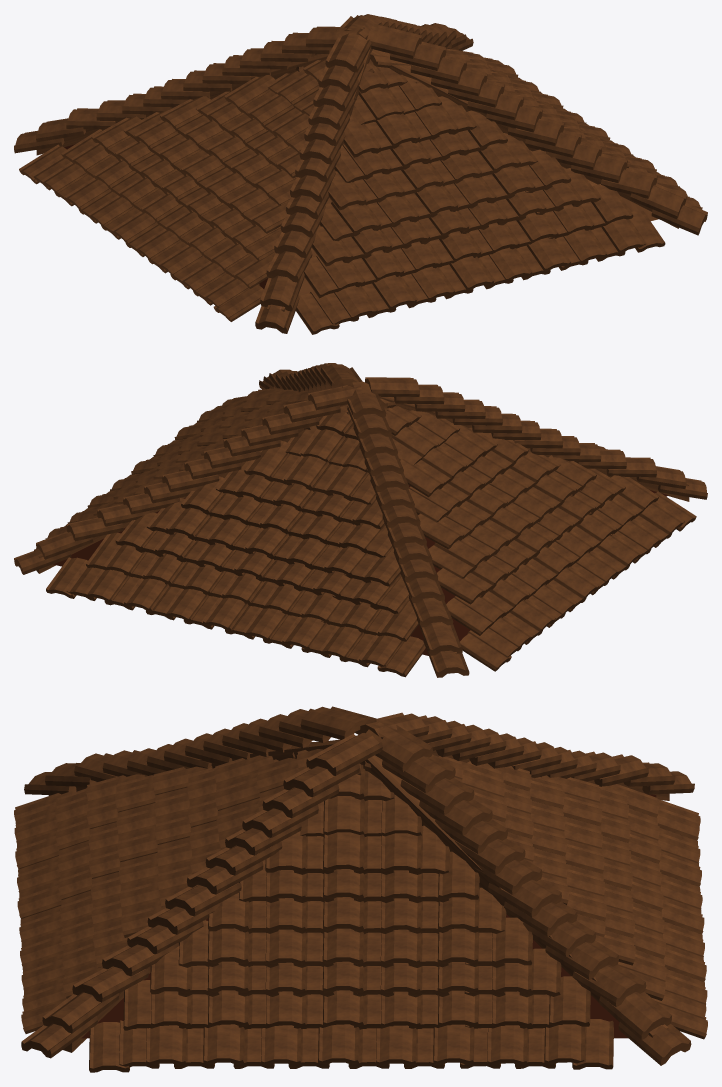
Rendered from Roof Square Short.fbx.
3 views of the same model, one above another, from view 1: azimuth 30°, elevation 25°; view 2: azimuth 150°, elevation 25°; view 3: azimuth 270°, elevation 25° (orthographic). The views are drawn at different scales.
Visible parts, largest first — view 1: Wall beam.009; view 2: Wall beam.009; view 3: Wall beam.009.
Boxes of the visible parts, x1,y1,x2,y2 form: Wall beam.009: (14, 14, 707, 334); Wall beam.009: (14, 363, 707, 677); Wall beam.009: (14, 706, 707, 1072).
Size of the model in its own units: 1487 by 1496 by 481.
